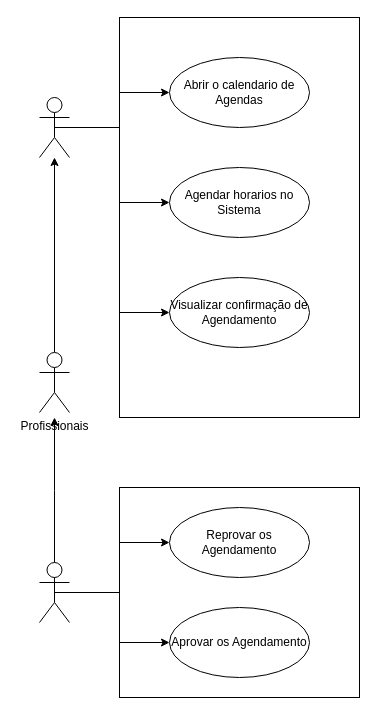
Some shapes in this 377 by 715 pixel diagram are drawn without their labels. Each missing label, with the centre of its shape:
"Responsaveis" belongs at (x=54, y=127).
"Secretaria" belongs at (x=54, y=592).
